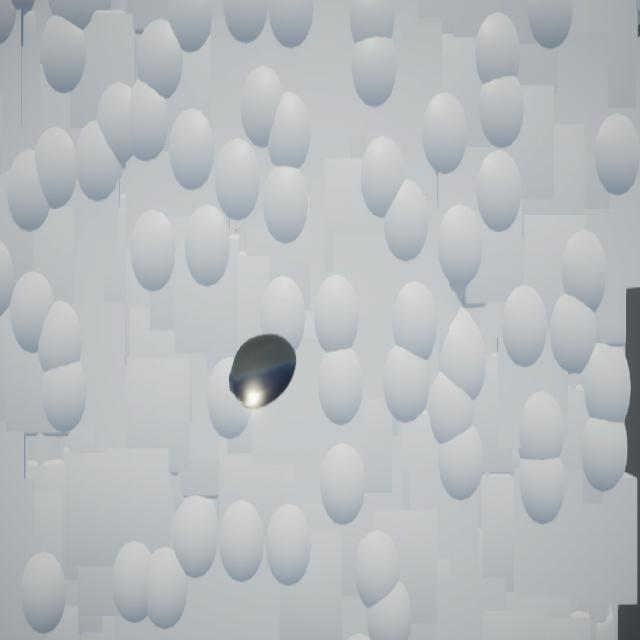top_spoon: (229, 335, 298, 411)
